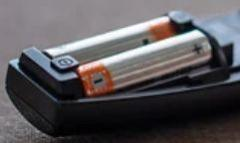electronic: (34, 11, 240, 101)
